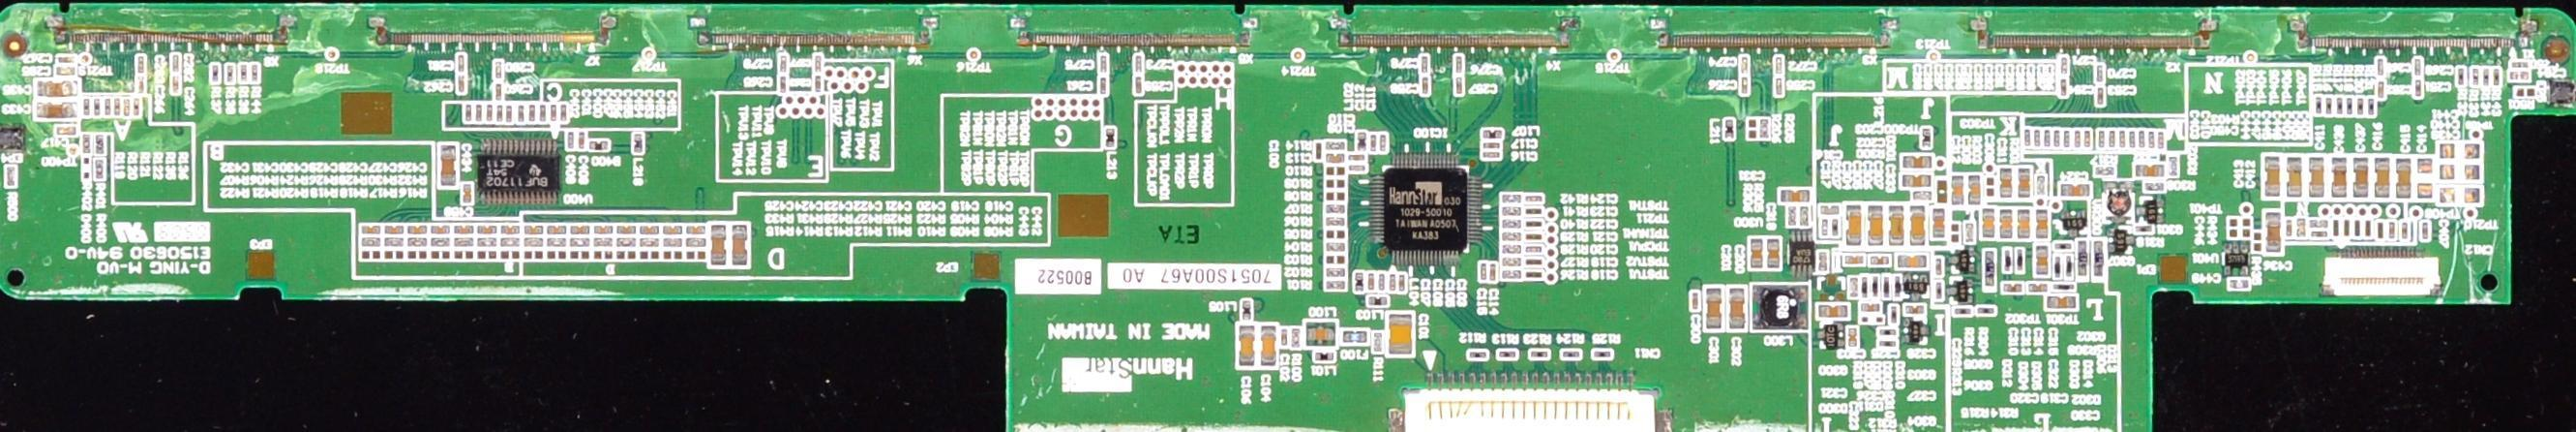Capacitor: (1389, 311, 1414, 355), (1237, 323, 1256, 366), (1257, 324, 1276, 368), (2262, 154, 2282, 196), (2438, 164, 2482, 183), (2439, 186, 2482, 204), (1867, 204, 1884, 246), (36, 80, 79, 98), (38, 102, 78, 119), (2438, 142, 2480, 160), (1845, 204, 1862, 246), (1707, 288, 1723, 328), (440, 147, 457, 188), (1815, 302, 1850, 320), (2288, 156, 2302, 196), (2310, 158, 2324, 197), (1889, 206, 1904, 246), (733, 226, 748, 264), (1730, 287, 1745, 327), (2331, 157, 2347, 195), (2417, 160, 2432, 197), (1911, 206, 1926, 244), (2397, 158, 2411, 199), (2266, 212, 2281, 252), (1902, 154, 1932, 170), (1749, 237, 1762, 270), (2353, 158, 2368, 195), (2376, 160, 2389, 197), (711, 226, 725, 262), (1779, 189, 1810, 203), (2133, 165, 2165, 177), (1766, 237, 1780, 269), (1951, 174, 1964, 202), (1901, 174, 1932, 187), (2059, 182, 2090, 195), (2035, 245, 2049, 276), (1999, 209, 2012, 237), (1932, 207, 1944, 238), (1968, 175, 1981, 202), (2046, 298, 2078, 309), (2019, 169, 2030, 197), (2018, 209, 2029, 236), (1898, 256, 1926, 267), (2227, 217, 2239, 240), (2000, 168, 2011, 197), (1983, 208, 1993, 238), (55, 125, 77, 139), (1846, 327, 1860, 349), (592, 223, 614, 234), (568, 224, 591, 234), (638, 224, 660, 235), (1848, 276, 1859, 298), (2037, 210, 2047, 236), (135, 55, 147, 76), (477, 224, 497, 234), (683, 223, 704, 234), (660, 224, 682, 235), (546, 225, 567, 236), (2228, 279, 2250, 291), (2508, 71, 2530, 82), (1097, 55, 1110, 75), (615, 224, 636, 234), (1279, 325, 1289, 348), (1099, 75, 1110, 94), (1379, 132, 1388, 152), (1325, 154, 1346, 164), (2309, 230, 2329, 239), (1933, 256, 1944, 277), (2003, 282, 2023, 293), (2026, 283, 2048, 293), (1134, 74, 1143, 96), (171, 75, 181, 96), (525, 224, 544, 234), (171, 54, 182, 72), (55, 66, 75, 77), (1369, 133, 1378, 153), (407, 224, 427, 232), (362, 226, 381, 234), (1842, 256, 1864, 265), (1367, 272, 1376, 293), (1859, 302, 1880, 312), (1134, 54, 1144, 75), (778, 54, 789, 75), (1422, 75, 1430, 94), (577, 132, 586, 150), (462, 184, 471, 202), (1387, 272, 1396, 292), (58, 55, 75, 65), (1453, 56, 1464, 75), (1775, 56, 1783, 75), (1740, 56, 1750, 75), (136, 76, 146, 93), (2413, 78, 2423, 97), (1480, 261, 1488, 283), (2376, 58, 2384, 78), (567, 131, 575, 151), (1314, 140, 1322, 161), (455, 224, 472, 233), (502, 224, 519, 233), (2364, 219, 2373, 238), (1489, 262, 1498, 282), (1691, 291, 1698, 311), (813, 54, 822, 75), (2060, 56, 2069, 76), (1455, 76, 1464, 95), (1775, 78, 1783, 96), (2097, 129, 2105, 146), (1483, 140, 1501, 149), (1525, 221, 1543, 229), (2295, 219, 2304, 236), (2342, 219, 2350, 237), (386, 226, 404, 233), (431, 226, 449, 233), (2377, 221, 2385, 238), (2400, 223, 2409, 240), (1525, 270, 1543, 279), (2413, 58, 2422, 76), (2097, 64, 2105, 81), (779, 75, 788, 92), (2032, 131, 2040, 147), (2074, 131, 2082, 147), (1524, 207, 1542, 215), (2423, 223, 2431, 240), (1525, 233, 1542, 241), (1526, 244, 1543, 253), (1871, 256, 1888, 264), (1398, 274, 1406, 292), (1740, 77, 1749, 94), (2097, 88, 2105, 105), (1525, 195, 1543, 202), (2388, 221, 2395, 239), (459, 53, 464, 73), (2377, 80, 2384, 100), (506, 107, 514, 121), (1526, 258, 1542, 266), (814, 77, 822, 92), (1821, 218, 1828, 236), (2285, 219, 2292, 237), (2353, 220, 2361, 238), (1378, 272, 1386, 292), (1421, 54, 1428, 73), (551, 104, 556, 120), (518, 105, 524, 121), (475, 105, 482, 121), (487, 105, 494, 121), (2064, 132, 2071, 145), (2158, 132, 2165, 147), (2110, 132, 2115, 148), (2140, 132, 2146, 148), (1483, 151, 1500, 158), (1349, 153, 1365, 160), (1821, 206, 1838, 213), (495, 62, 502, 78), (459, 77, 465, 93), (2060, 79, 2067, 95), (495, 84, 502, 100), (528, 105, 535, 119), (2119, 132, 2126, 146), (1350, 164, 1364, 170), (2332, 219, 2338, 238), (2148, 132, 2154, 150), (2044, 131, 2051, 145), (2128, 132, 2135, 145), (561, 105, 566, 122), (465, 105, 470, 121), (497, 105, 503, 121), (540, 105, 546, 121), (2024, 129, 2029, 145), (2084, 131, 2090, 146), (2054, 131, 2060, 146)
Connector: (1403, 374, 1654, 432), (2321, 257, 2440, 300)
IC: (1371, 155, 1483, 263), (478, 139, 561, 204), (1789, 232, 1812, 277), (2223, 244, 2250, 274)
Resistor: (361, 235, 383, 249), (432, 247, 453, 261), (453, 247, 475, 261), (475, 235, 497, 248), (452, 237, 476, 248), (404, 248, 429, 260), (500, 237, 523, 249), (2323, 95, 2334, 118), (94, 133, 105, 156), (94, 158, 105, 181), (2514, 87, 2536, 99), (384, 235, 404, 248), (1324, 204, 1345, 215), (2309, 217, 2330, 228), (476, 250, 498, 261), (685, 250, 706, 261), (546, 249, 567, 262), (225, 62, 236, 84), (524, 248, 542, 262), (1326, 140, 1345, 152), (6, 166, 16, 189), (569, 236, 591, 247), (593, 236, 613, 248), (639, 237, 659, 248), (593, 249, 615, 260), (385, 250, 404, 261), (1327, 280, 1347, 292), (239, 63, 249, 85), (1759, 117, 1770, 139), (1749, 117, 1757, 139), (80, 134, 90, 155), (1326, 166, 1347, 176), (1502, 231, 1522, 241), (406, 237, 427, 247), (1877, 327, 1899, 337), (1291, 327, 1301, 348), (2493, 66, 2501, 87), (2456, 68, 2468, 86), (1935, 280, 1943, 303), (2169, 156, 2179, 176), (1326, 178, 1345, 189), (2036, 176, 2045, 196), (2144, 181, 2164, 191), (1326, 191, 1345, 201), (1502, 194, 1521, 203), (1799, 206, 1810, 227), (1785, 206, 1796, 227), (430, 236, 451, 247), (614, 237, 635, 246), (1326, 267, 1346, 278), (1954, 305, 1973, 316), (211, 62, 220, 82), (2471, 66, 2480, 86), (2346, 94, 2354, 117), (1326, 217, 1344, 227), (1502, 219, 1520, 228), (665, 236, 684, 247), (685, 237, 703, 247), (1327, 241, 1346, 251), (571, 249, 590, 260), (500, 249, 520, 260), (1326, 255, 1344, 264), (1504, 269, 1521, 279), (1879, 339, 1897, 349), (2336, 96, 2345, 116), (2356, 96, 2364, 116), (2367, 97, 2376, 118), (2094, 168, 2115, 176), (360, 250, 381, 259), (2483, 66, 2491, 87), (1501, 207, 1521, 215), (1964, 222, 1973, 242), (548, 238, 566, 247), (640, 249, 659, 259), (618, 249, 637, 259), (1504, 258, 1520, 267), (1976, 307, 1996, 316), (1889, 305, 1898, 324), (1373, 331, 1382, 352), (82, 98, 90, 116), (92, 99, 101, 117), (1987, 178, 1994, 198), (1950, 223, 1959, 241), (1328, 231, 1345, 238), (524, 237, 543, 245), (2254, 233, 2261, 251), (2054, 241, 2073, 250), (1502, 244, 1519, 254), (665, 250, 683, 259), (1468, 350, 1487, 358), (1563, 351, 1580, 357), (1496, 350, 1515, 358), (251, 64, 260, 81), (103, 99, 110, 115), (1594, 351, 1610, 357), (2315, 95, 2321, 115), (134, 97, 140, 114), (1832, 217, 1839, 235), (2243, 219, 2249, 237), (124, 99, 130, 114), (114, 99, 121, 115), (1532, 352, 1547, 357)
Transistor: (2136, 199, 2165, 226), (1819, 324, 1845, 351), (2060, 211, 2088, 237), (1904, 274, 1929, 301), (1904, 318, 1926, 345), (2110, 229, 2134, 252), (1950, 280, 1973, 304), (1950, 251, 1976, 273)
